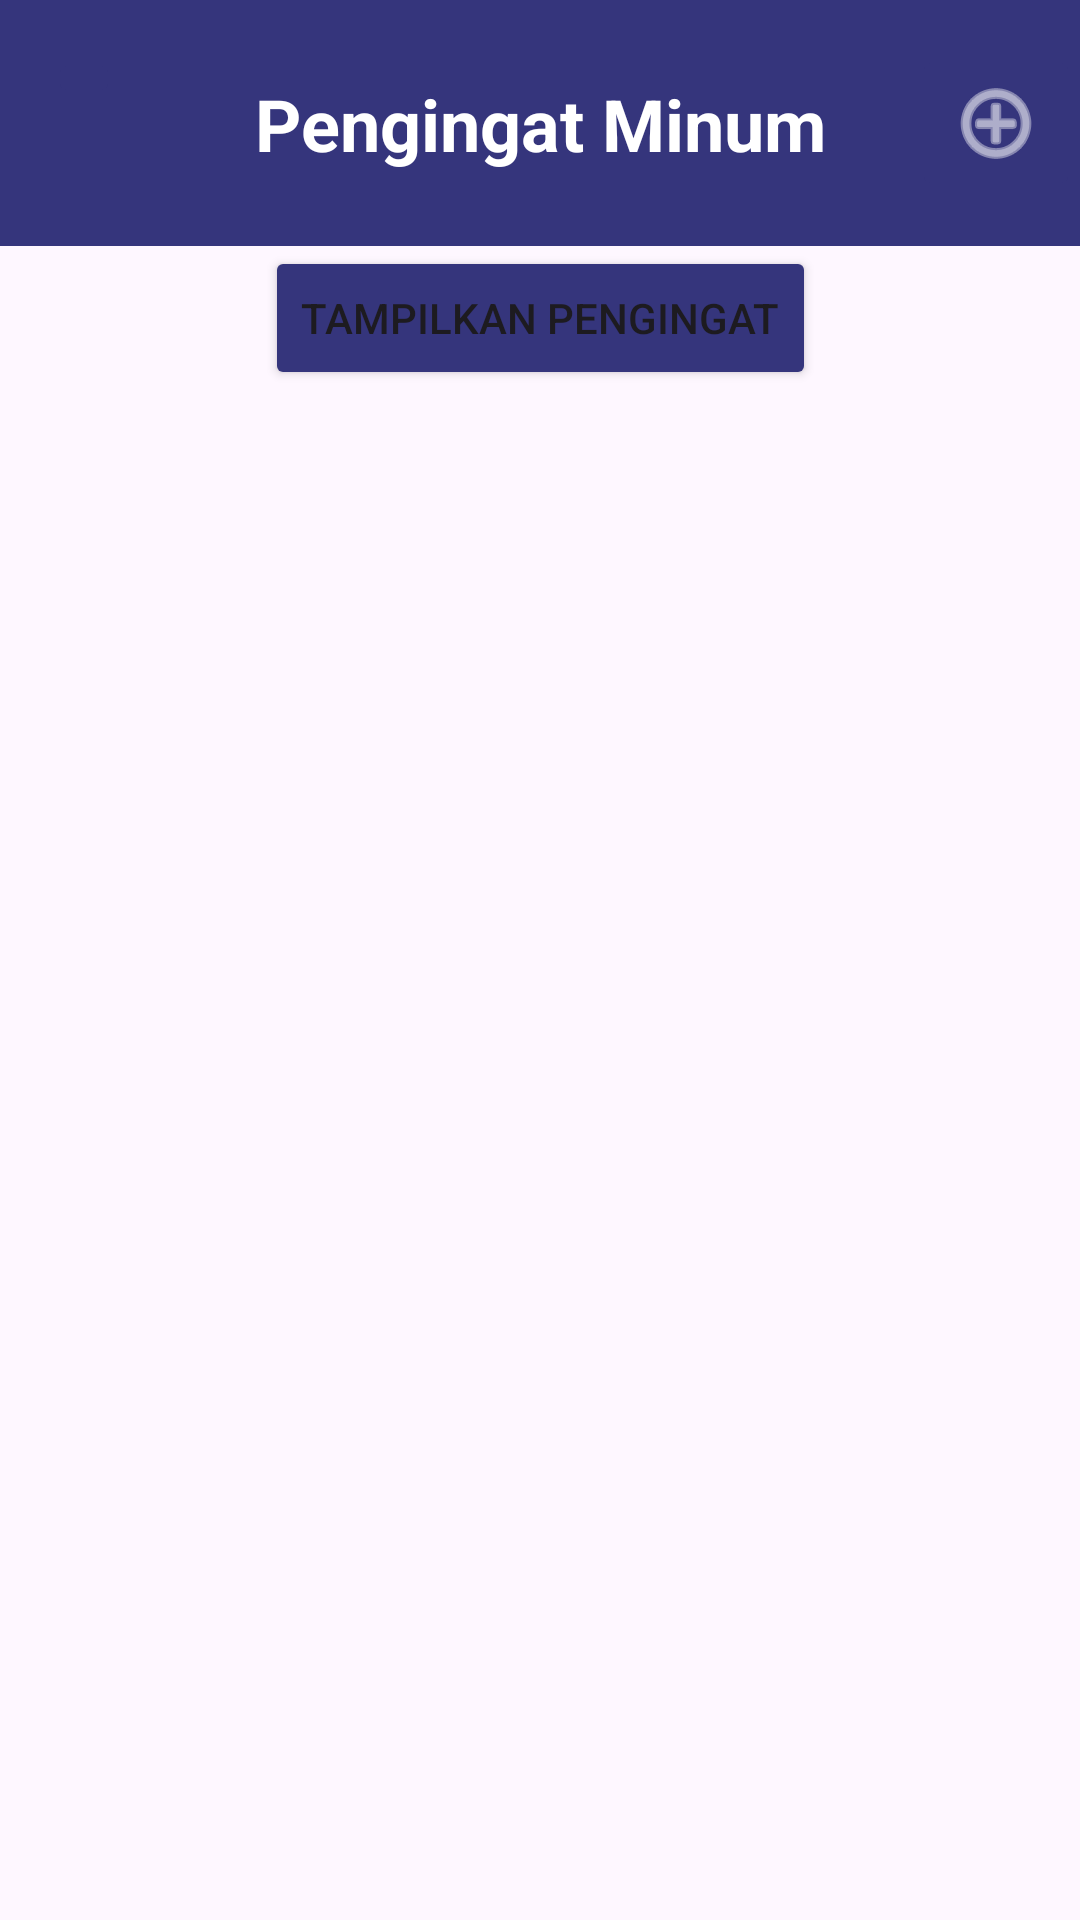

Icons on this 1080px x 1920px Android screen, each with its box as (x1, y1, x2, y2):
add: (960, 88, 1032, 159)
